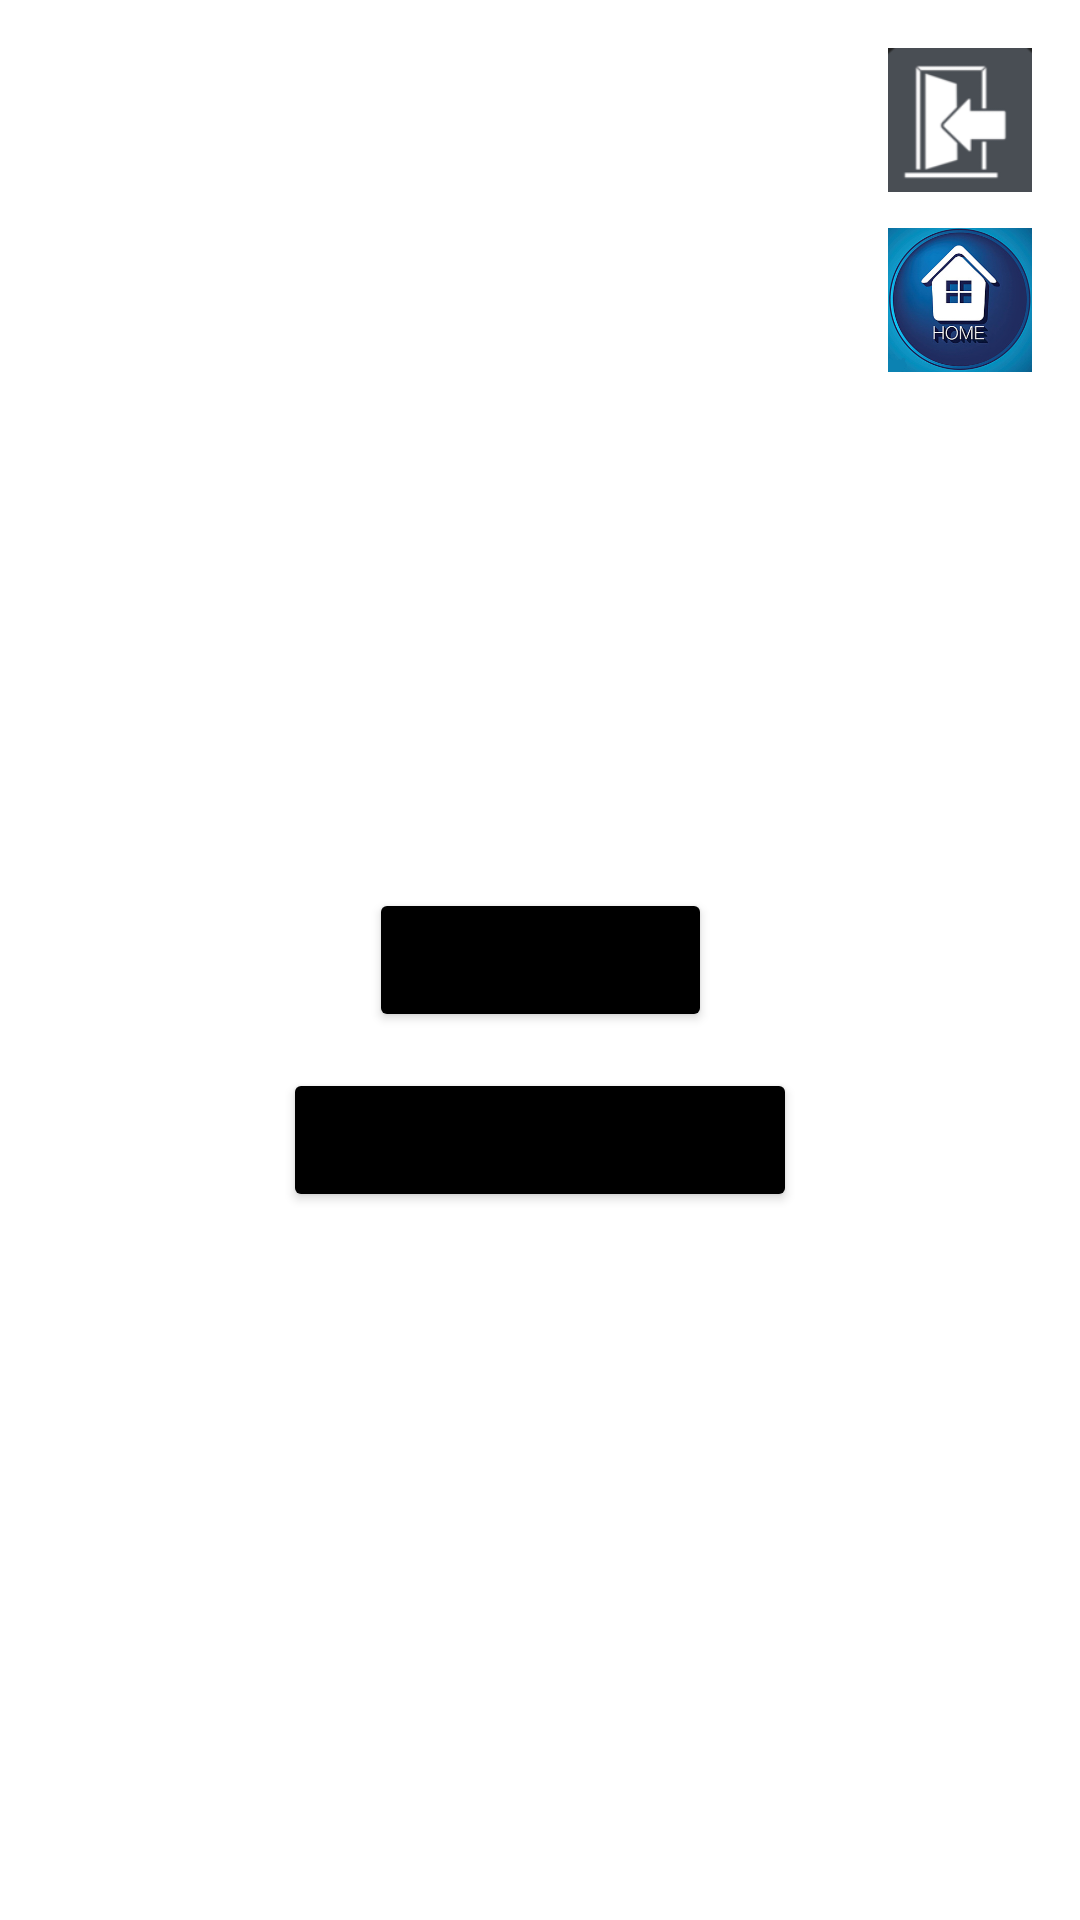

Icon bounding boxes for this 1080 × 1920 phone screenshot, format (x1, y1, x2, y2):
Return to the home: (888, 228, 1032, 372)
